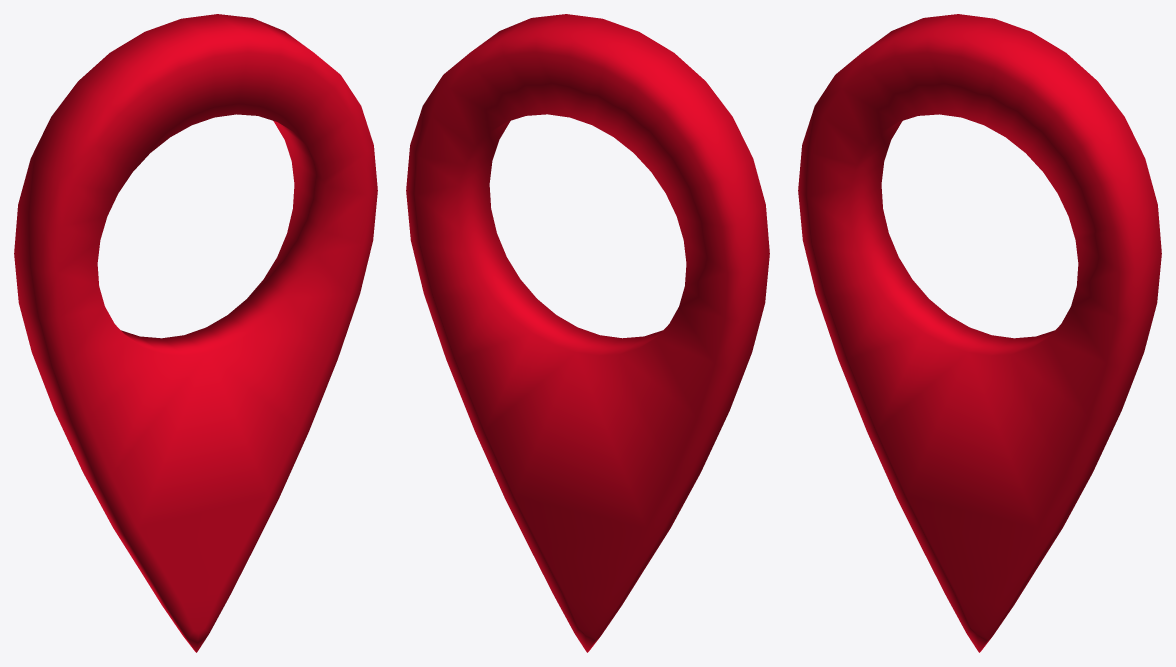
The model's file is pointer.glb.
The picture shows the model from 3 angles, left to right: view 1: azimuth 30°, elevation 25°; view 2: azimuth 150°, elevation 25°; view 3: azimuth 330°, elevation 25°; orthographic projection.
Visible parts, largest first — view 1: Circle; view 2: Circle; view 3: Circle.
Boxes of the visible parts, x1=… form: Circle: x1=14, y1=14, x2=377, y2=652; Circle: x1=406, y1=14, x2=769, y2=652; Circle: x1=798, y1=14, x2=1161, y2=652.
Bounding box in the file's own units: 1.8 × 3.17 × 0.3436.
